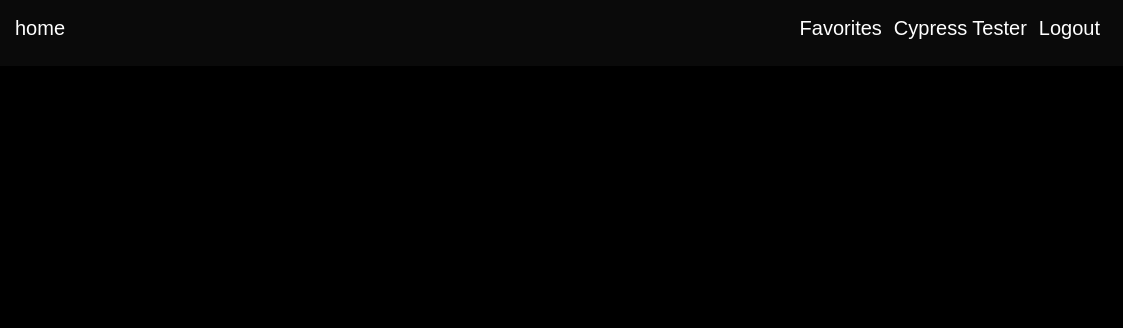
Test: Home page › should allow user to logout
Click the button with class "logout-button" at (1070, 29), box [1033,16,1106,41]
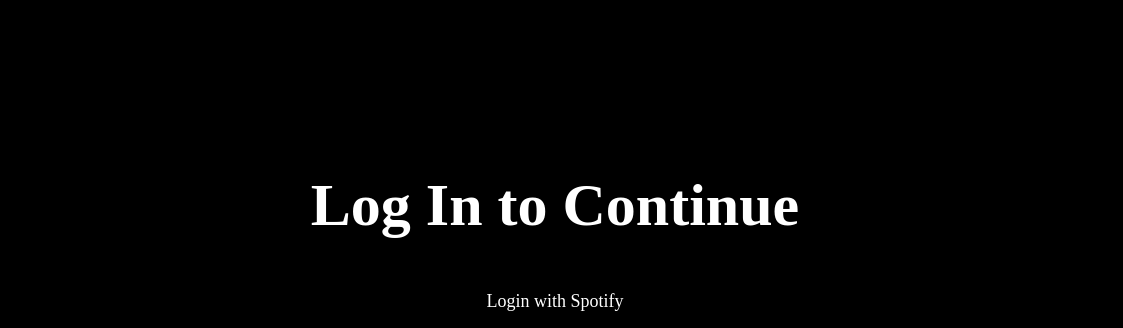
Expected: the link "Login with Spotify" is shown, [486,291,624,311]
